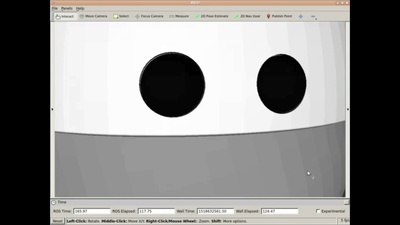mira_robot: (54, 21, 345, 195)
